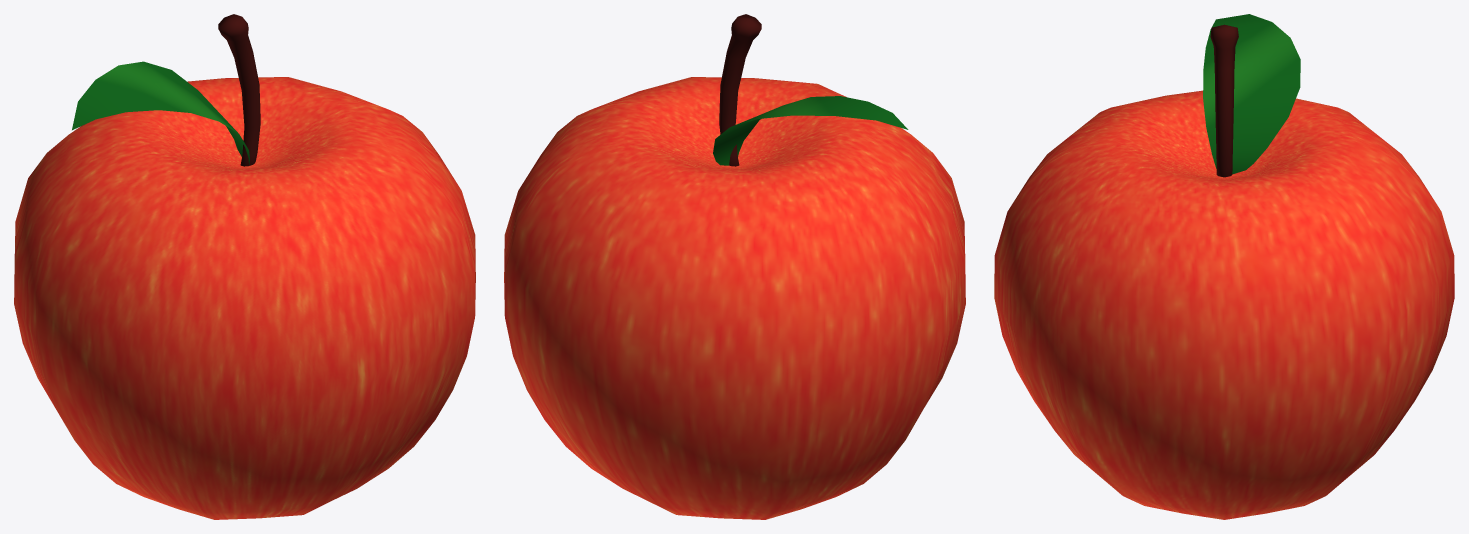
The model's file is Apple.glb.
3 views of the same model, side by side, from view 1: azimuth 30°, elevation 25°; view 2: azimuth 150°, elevation 25°; view 3: azimuth 270°, elevation 25° (orthographic). The views are drawn at different scales.
Parts seen in each view (by area): view 1: apple_Baked; view 2: apple_Baked; view 3: apple_Baked.
Part boxes in pixels (x1=…): apple_Baked: x1=14, y1=14, x2=475, y2=519; apple_Baked: x1=504, y1=14, x2=965, y2=519; apple_Baked: x1=994, y1=14, x2=1454, y2=519.
Size of the model in its own units: 0.1231 by 0.1322 by 0.1231.
Materials: 1 (1 with a texture image).
